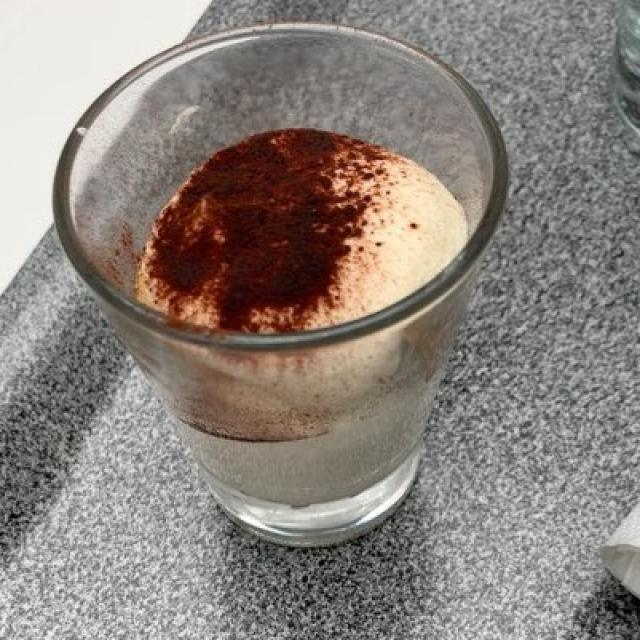tiramisu: (136, 130, 465, 327)
